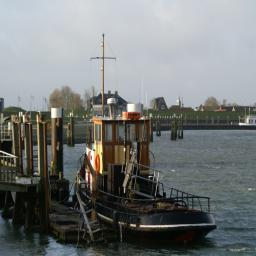tugboat: (75, 96, 220, 250)
